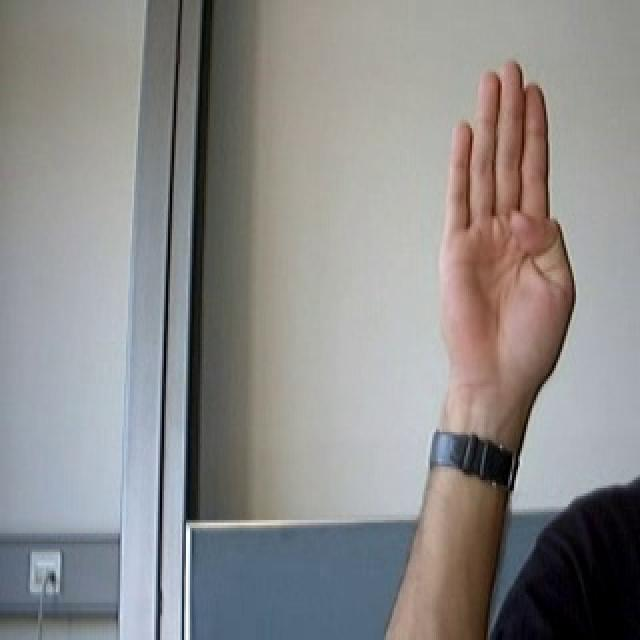B: (401, 44, 610, 464)
